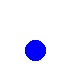circle: (25, 40, 45, 60)
